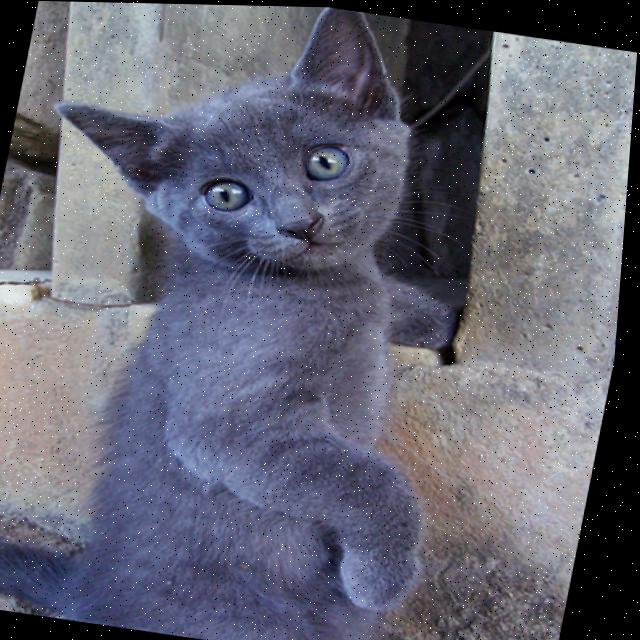Russian Blue: (0, 0, 529, 640)
